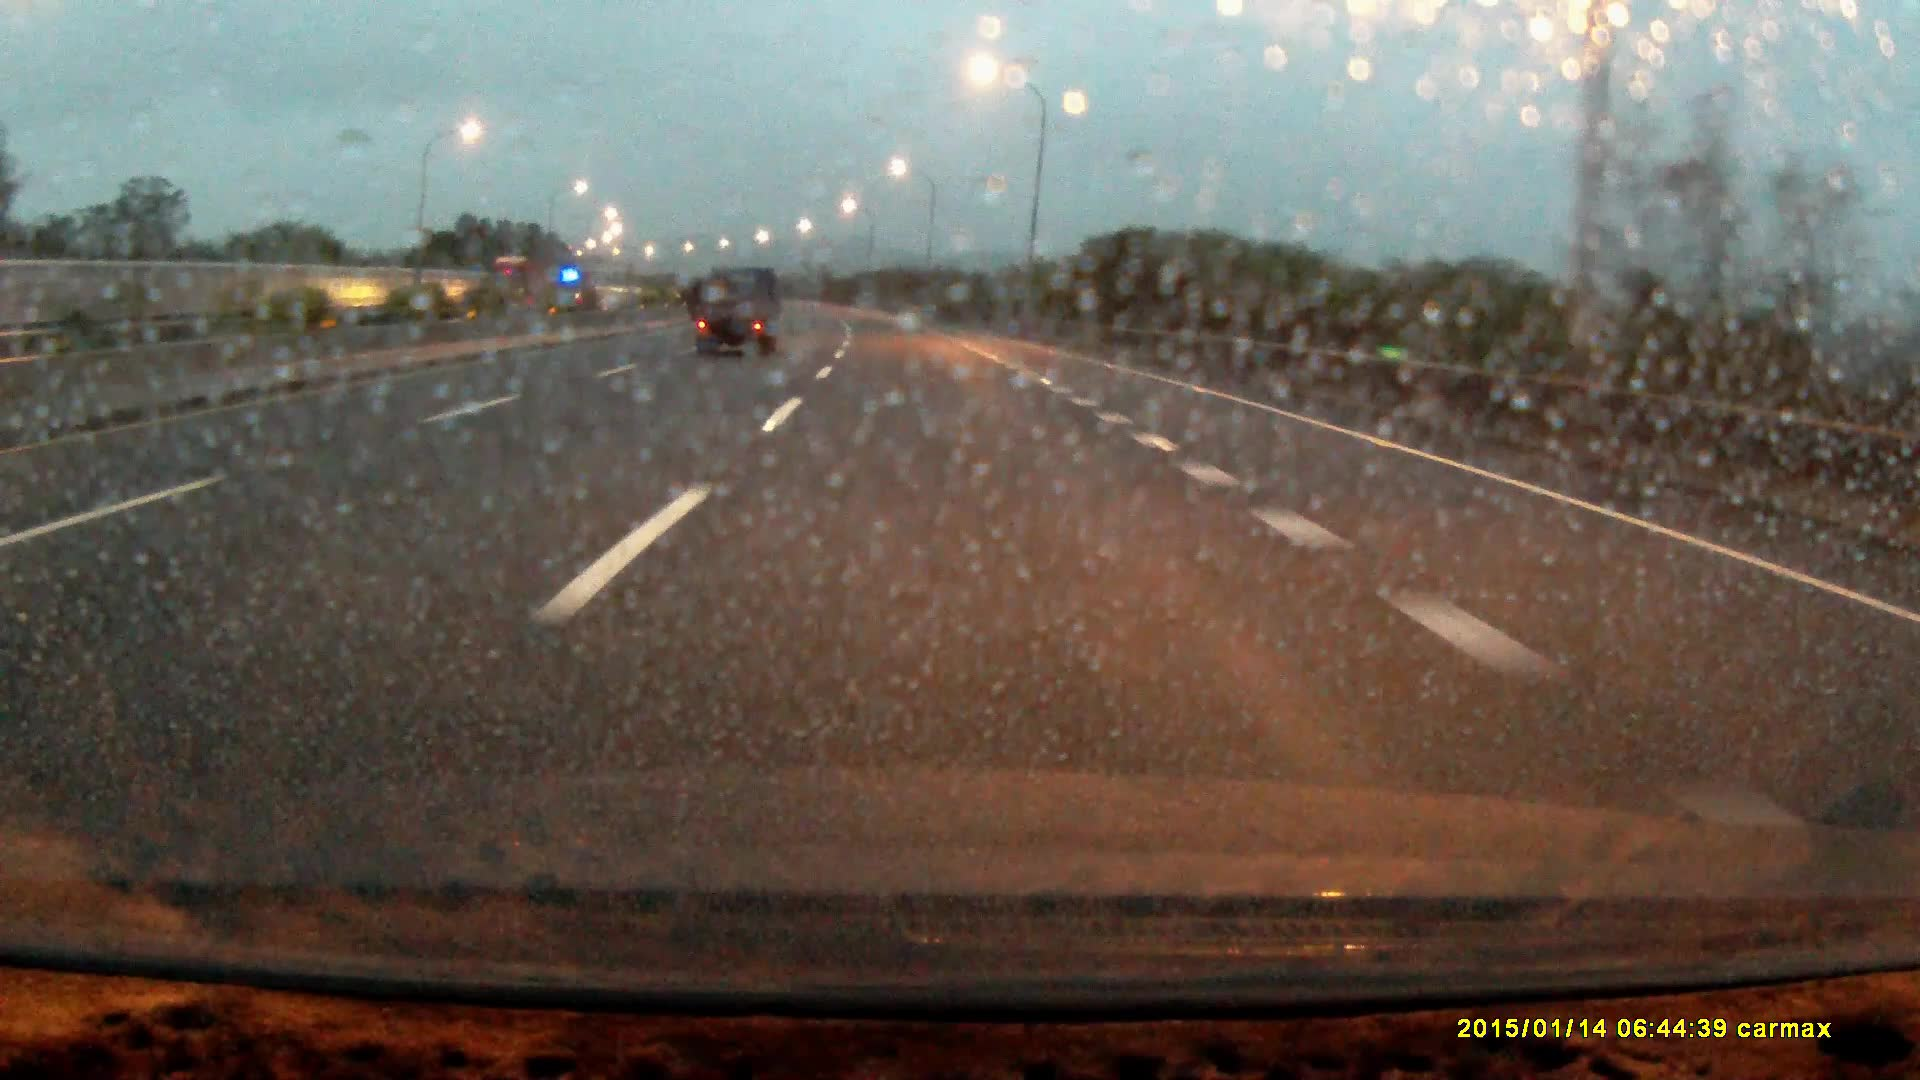vehicle: (698, 266, 778, 360), (488, 257, 549, 309)
